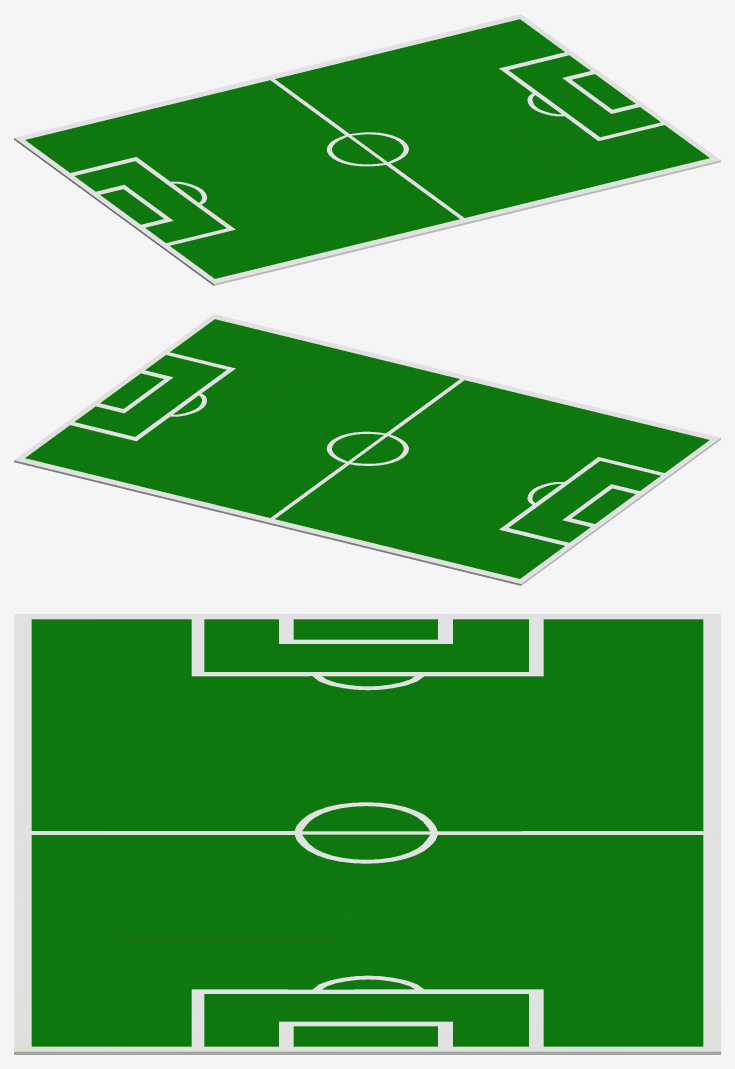
Rendered from SM_Football_Field.fbx.
The picture shows the model from 3 angles, top to bottom: view 1: azimuth 30°, elevation 25°; view 2: azimuth 150°, elevation 25°; view 3: azimuth 270°, elevation 25°; orthographic projection. The views are drawn at different scales.
Parts seen in each view (by area): view 1: SM_Football_Field; view 2: SM_Football_Field; view 3: SM_Football_Field.
Boxes of the visible parts, x1,y1,x2,y2 form: SM_Football_Field: (14, 14, 720, 285); SM_Football_Field: (14, 314, 720, 585); SM_Football_Field: (14, 614, 720, 1054).
Bounding box in the file's own units: 6133 × 22.4 × 4187.
